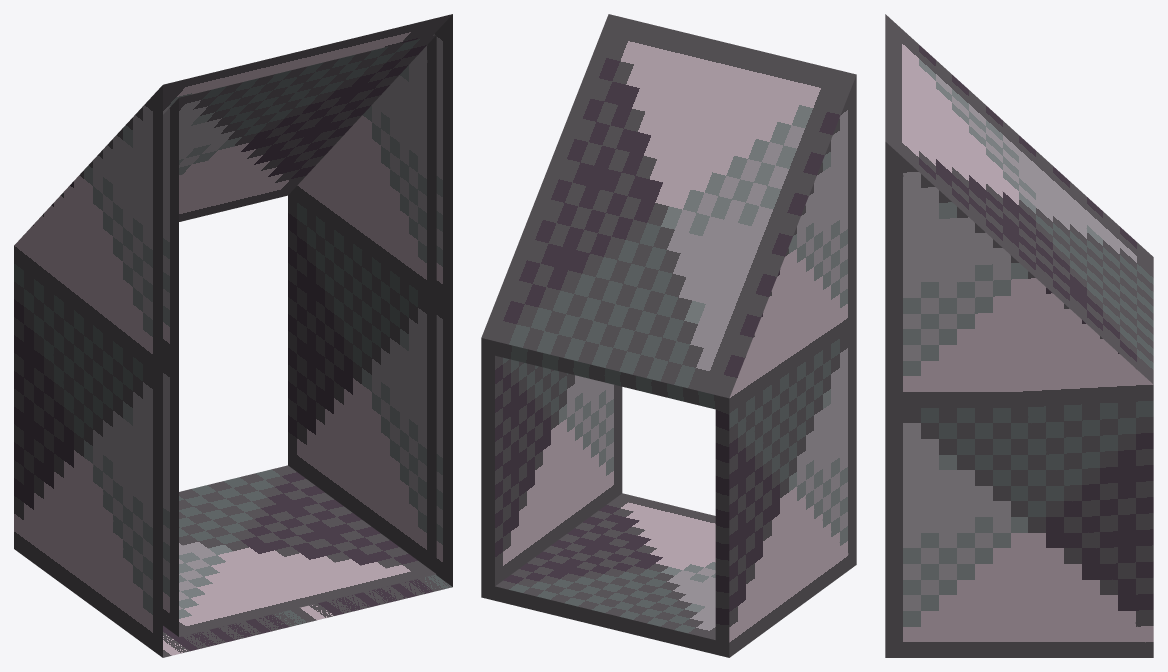
Rendered from VentAdapter.fbx.
The picture shows the model from 3 angles, left to right: view 1: azimuth 30°, elevation 25°; view 2: azimuth 150°, elevation 25°; view 3: azimuth 270°, elevation 25°; orthographic projection. The views are drawn at different scales.
Visible parts, largest first — view 1: VentAdapter; view 2: VentAdapter; view 3: VentAdapter.
Part boxes in pixels (x1,y1,x2,y2): VentAdapter: (14,14,452,657); VentAdapter: (481,14,856,657); VentAdapter: (885,14,1153,657).
Size of the model in its own units: 112 by 212 by 100.
